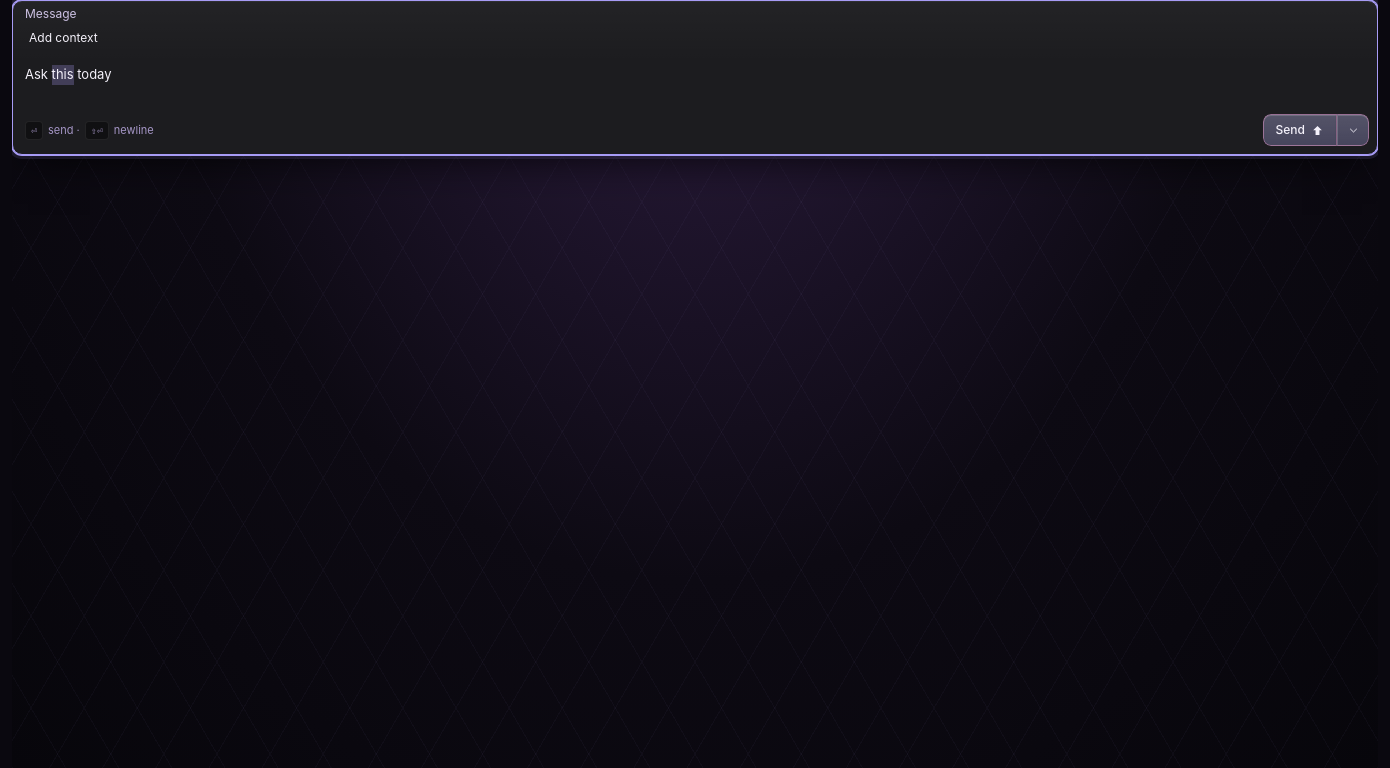
Test case: ContextPicker › inserts a disambiguated reference in the selection without sending and restores focus
The image size is (1390, 768).
Click the button "Add context" at (63, 38), box [19,23,108,53]
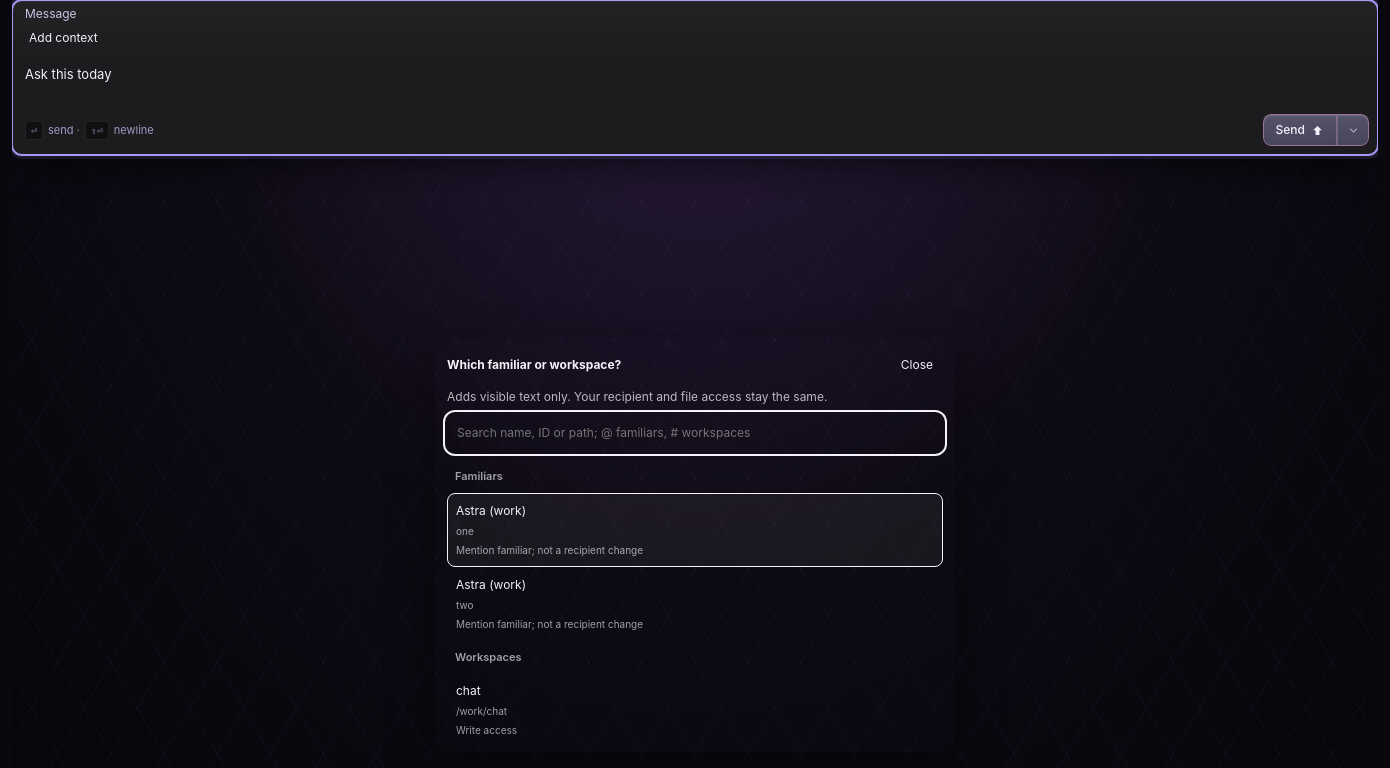
Type "@ast" into the dropdown at (695, 433), box [447,414,943,452]
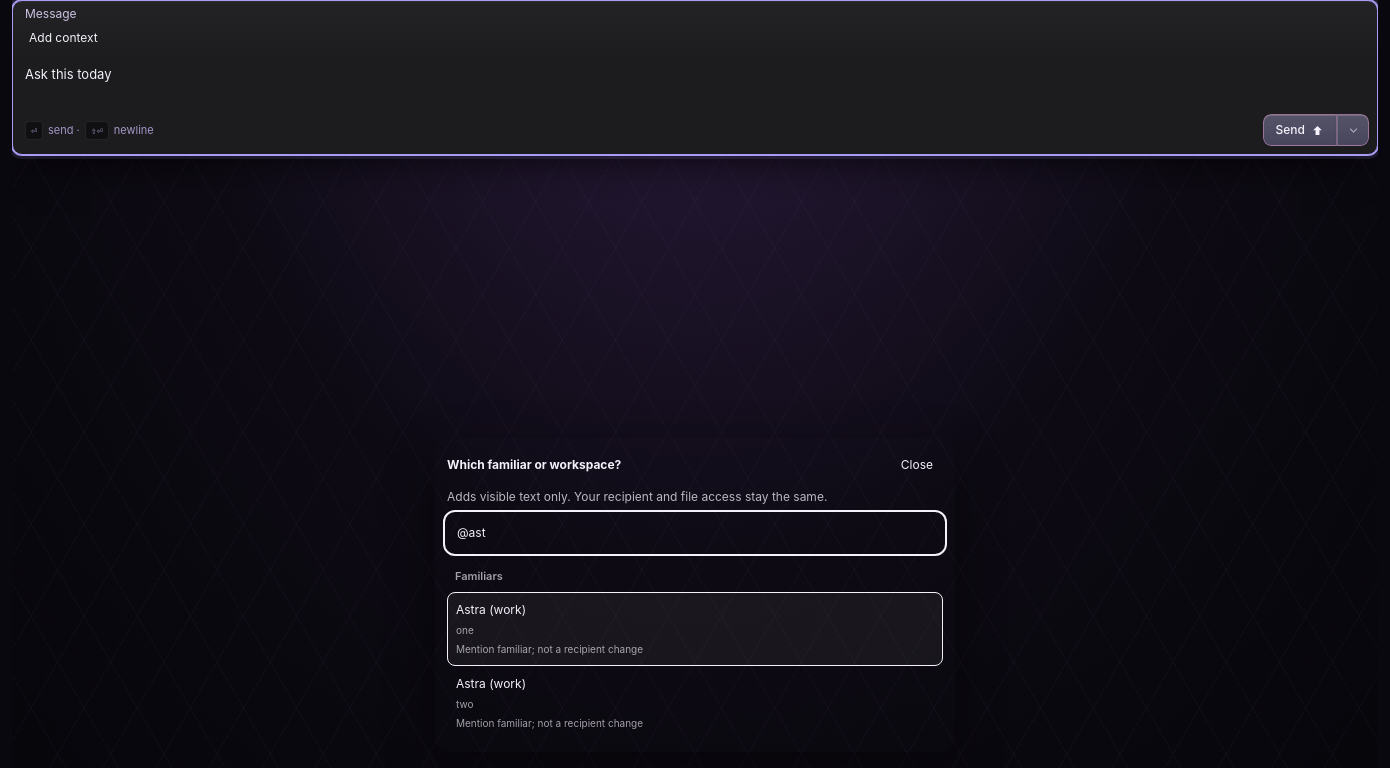
Result: the number of options is 2 at [447,592,943,666]; [447,666,943,740]
Press ArrowDown in the dropdown, box [447,514,943,552]
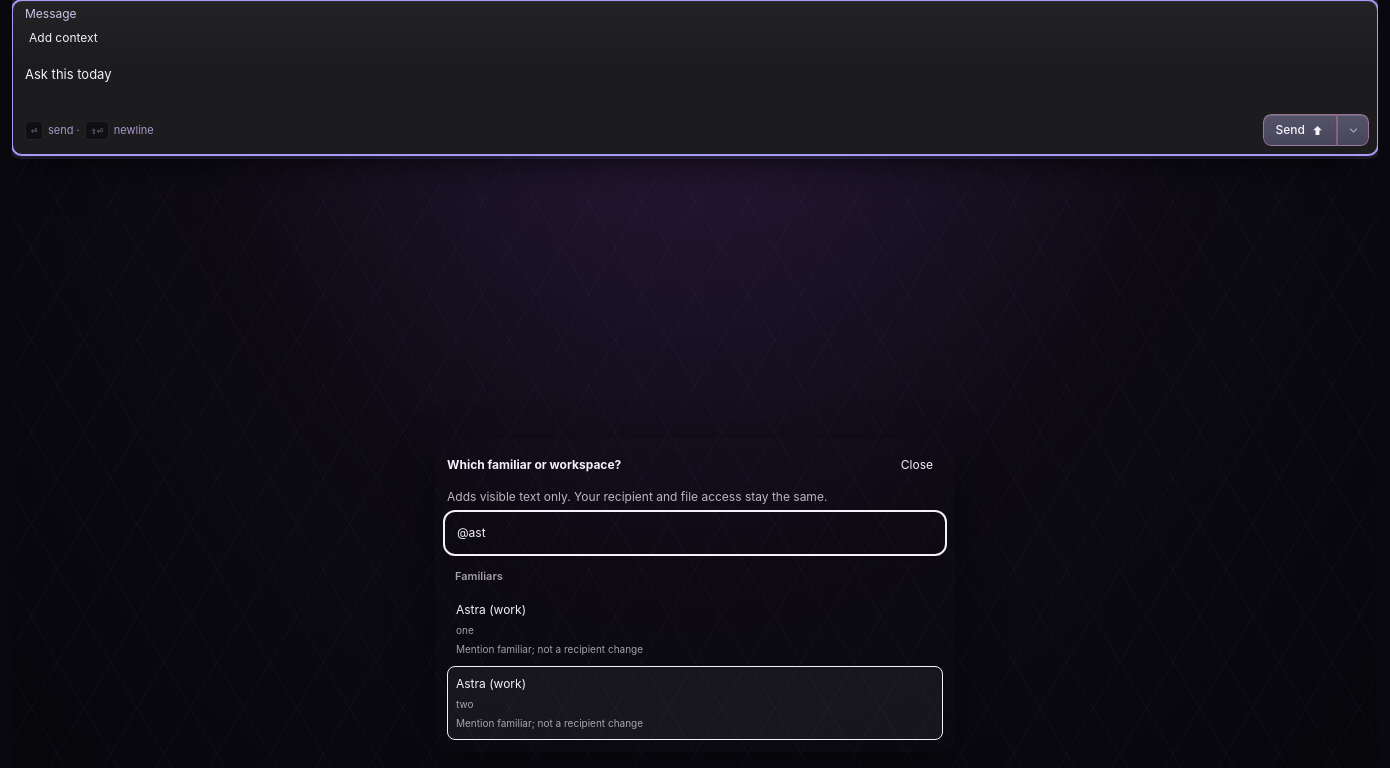
Press Enter in the dropdown, box [447,514,943,552]
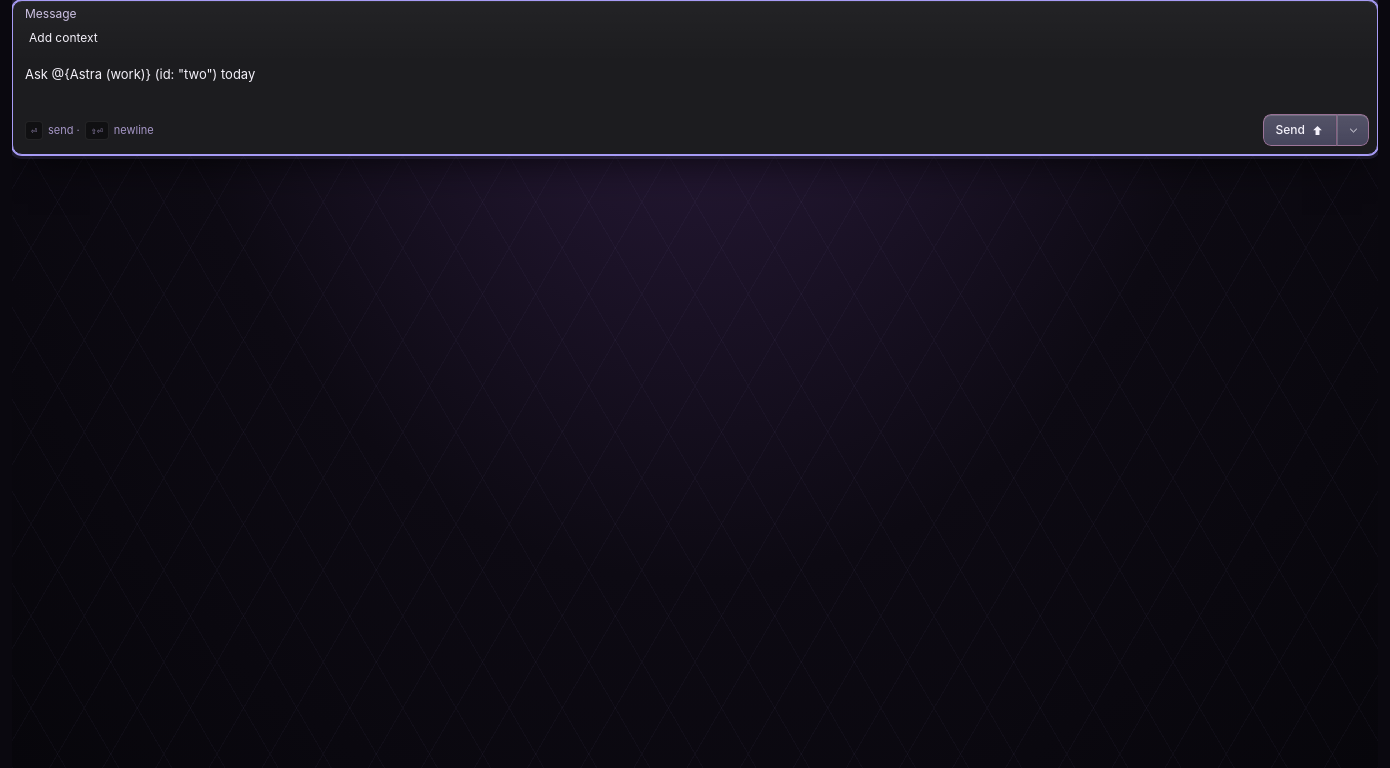
Result: the text box labelled "Message" holds "Ask @{Astra (work)} (id: \"two\") today" at [13,57,1377,110]
